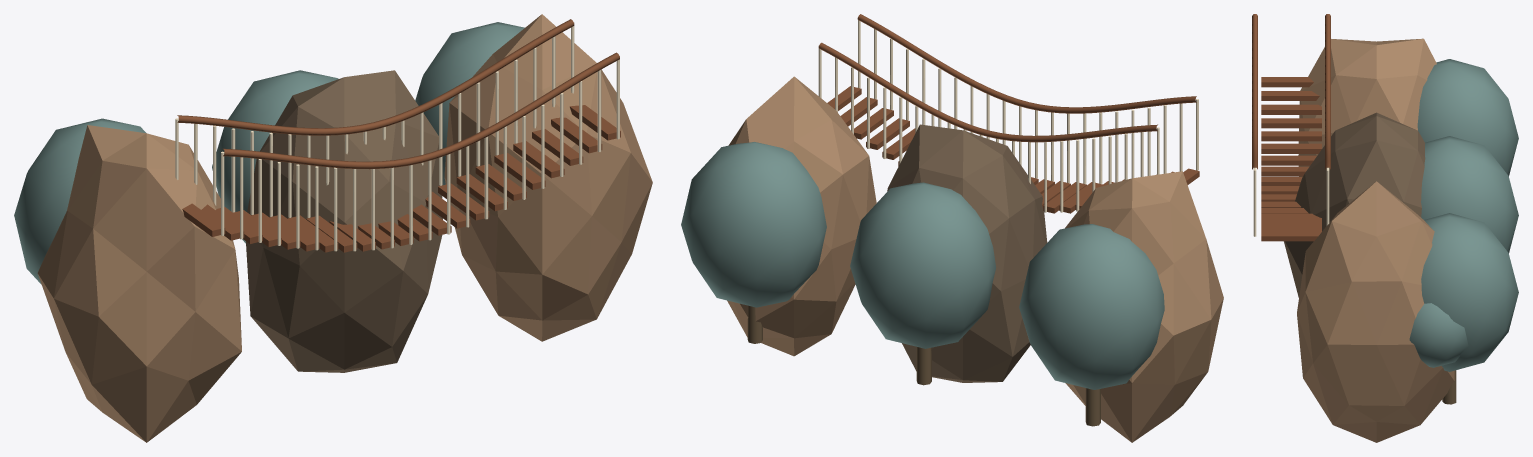
Rendered from trail.glb.
3 views of the same model, side by side, from view 1: azimuth 30°, elevation 25°; view 2: azimuth 150°, elevation 25°; view 3: azimuth 270°, elevation 25° (orthographic). The views are drawn at different scales.
Size of the model in its own units: 4.36 by 2.5 by 2.19.
